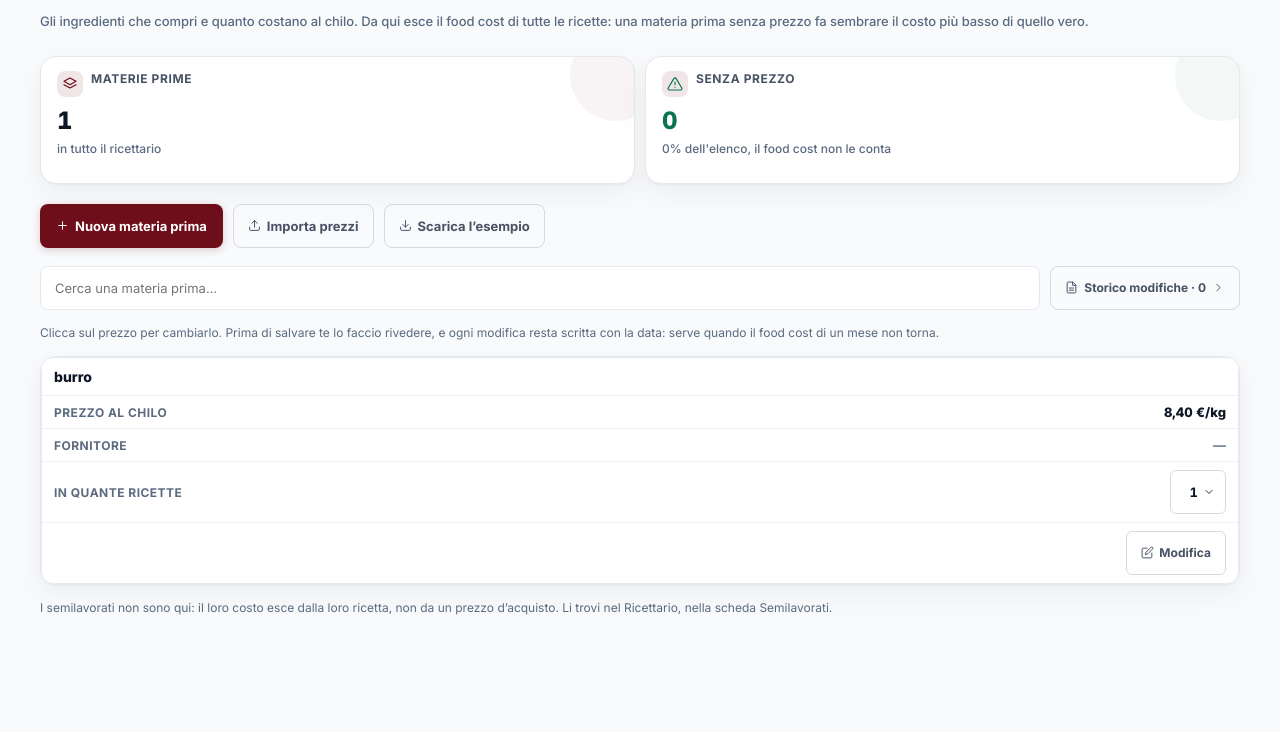
Test: materie prime sul telefono › il pulsante «Modifica» apre davvero il campo del prezzo
Click the button "Modifica". click: (1176, 552)
box: [1126, 530, 1226, 574]
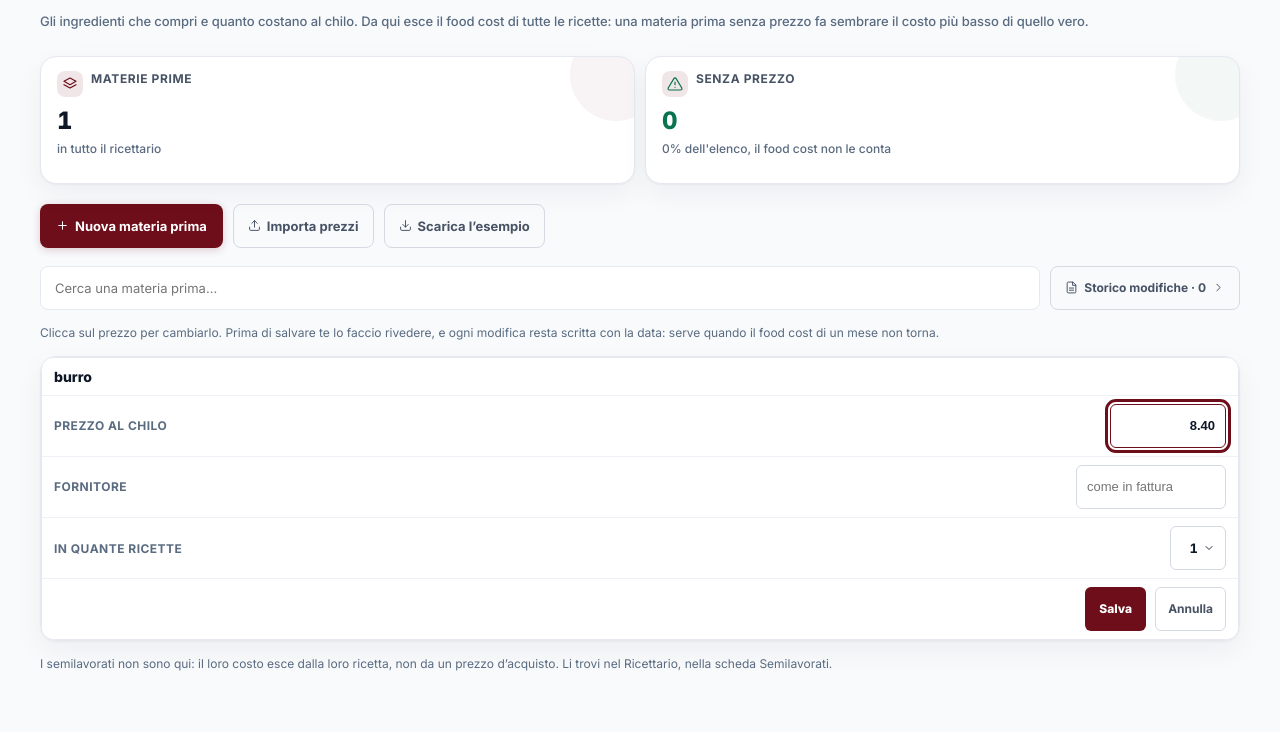
Result: the field named "Prezzo per chilo di burro" is shown at [1110, 404, 1226, 448]
